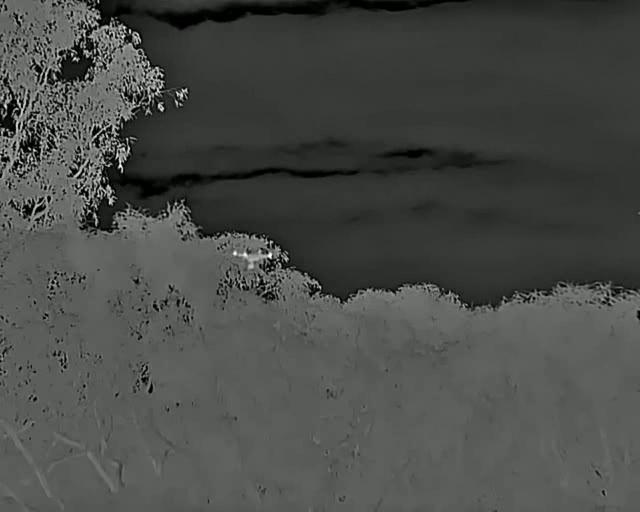DJI-Phantom: (234, 247, 274, 272)
